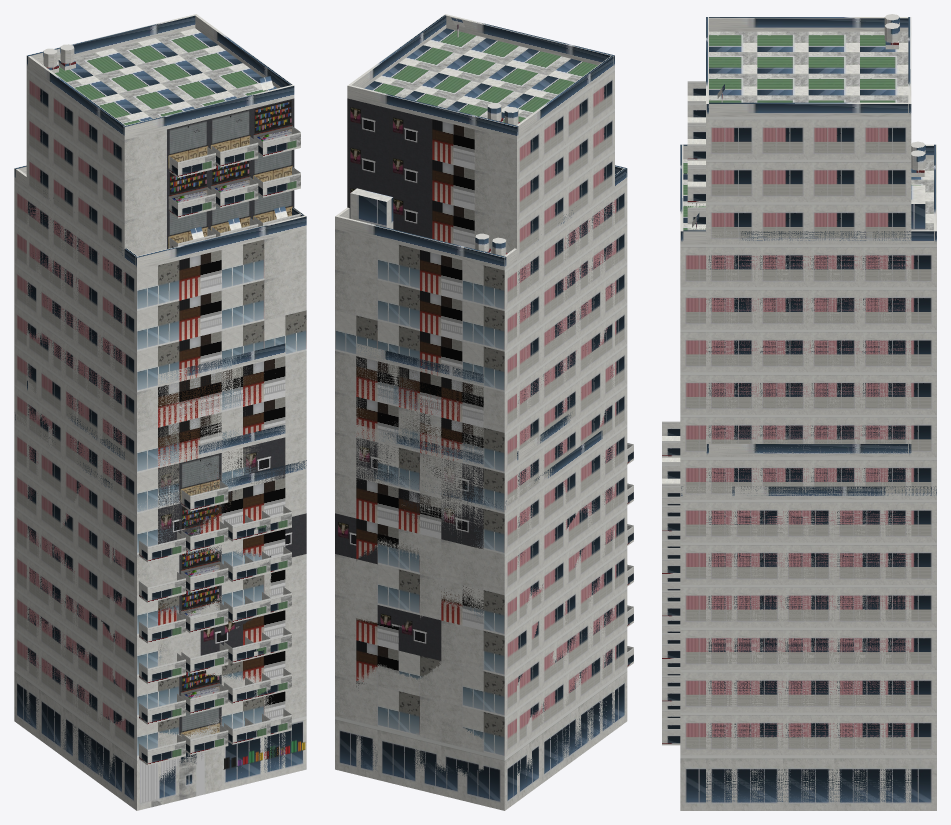
3 renders of one model, left to right at view 1: azimuth 30°, elevation 25°; view 2: azimuth 150°, elevation 25°; view 3: azimuth 270°, elevation 25°, orthographic. The views are drawn at different scales.
Parts seen in each view (by area): view 1: Modern_4x5_f12_v1, Modern_4x4_f15_v0, Modern_4x4_f7_v1, Modern_2x5_f7_v1, Modern_3x5_f7_v1, Modern_4x3_f6_v0, Modern_3x5_f9_v0, Modern_4x5_f6_v1, Modern_3x5_f6_v1; view 2: Modern_4x5_f12_v1, Modern_4x4_f15_v0, Modern_4x4_f7_v1, Modern_3x5_f7_v1, Modern_2x5_f7_v1, Modern_4x3_f6_v0, Modern_3x5_f9_v0, Modern_4x5_f6_v1; view 3: Modern_4x4_f15_v0, Modern_4x5_f12_v1, Modern_4x4_f7_v1, Modern_4x3_f6_v0, Modern_4x5_f6_v1, Modern_3x5_f6_v1, Modern_2x5_f7_v1.
Boxes of the visible parts, bbox=[...] form: Modern_4x5_f12_v1: bbox=[14, 165, 306, 810]; Modern_4x4_f15_v0: bbox=[26, 14, 300, 463]; Modern_4x4_f7_v1: bbox=[26, 380, 124, 801]; Modern_2x5_f7_v1: bbox=[179, 431, 264, 800]; Modern_3x5_f7_v1: bbox=[158, 425, 285, 781]; Modern_4x3_f6_v0: bbox=[39, 432, 112, 785]; Modern_3x5_f9_v0: bbox=[158, 343, 285, 468]; Modern_4x5_f6_v1: bbox=[14, 412, 306, 765]; Modern_3x5_f6_v1: bbox=[158, 465, 291, 735]; Modern_4x5_f12_v1: bbox=[335, 165, 627, 810]; Modern_4x4_f15_v0: bbox=[347, 14, 614, 464]; Modern_4x4_f7_v1: bbox=[517, 393, 614, 801]; Modern_3x5_f7_v1: bbox=[356, 424, 483, 778]; Modern_2x5_f7_v1: bbox=[377, 431, 462, 800]; Modern_4x3_f6_v0: bbox=[529, 430, 602, 771]; Modern_3x5_f9_v0: bbox=[356, 343, 483, 467]; Modern_4x5_f6_v1: bbox=[335, 443, 633, 667]; Modern_4x4_f15_v0: bbox=[687, 14, 911, 457]; Modern_4x5_f12_v1: bbox=[680, 141, 936, 810]; Modern_4x4_f7_v1: bbox=[706, 444, 911, 810]; Modern_4x3_f6_v0: bbox=[731, 486, 885, 810]; Modern_4x5_f6_v1: bbox=[662, 457, 936, 728]; Modern_3x5_f6_v1: bbox=[662, 496, 680, 745]; Modern_2x5_f7_v1: bbox=[662, 421, 680, 485].
Bounding box in the file's own units: 14 × 53.75 × 18.75.
Materials: 1 (1 with a texture image).
